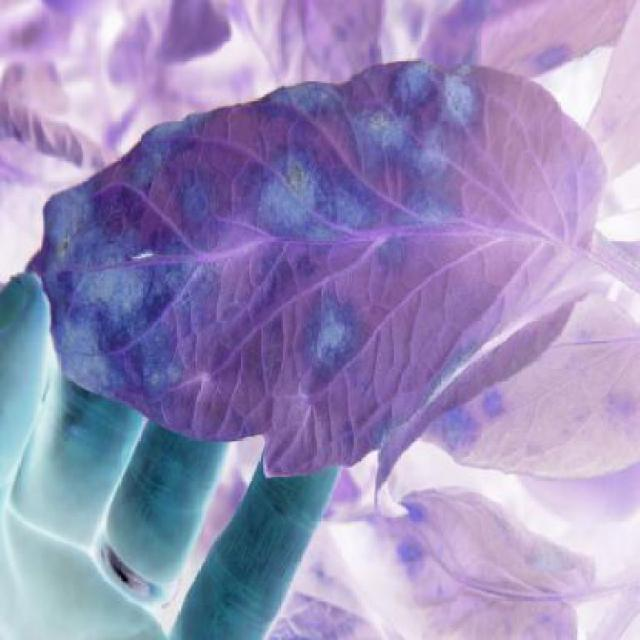Tomato mold leaf: (11, 54, 626, 474)
